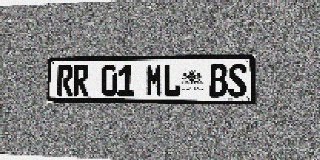0: (101, 65, 117, 96)
1: (118, 65, 134, 96)
B: (209, 64, 227, 97)
L: (163, 64, 180, 97)
M: (146, 65, 163, 97)
R: (57, 65, 73, 96), (73, 65, 89, 96)
S: (228, 64, 247, 97)
